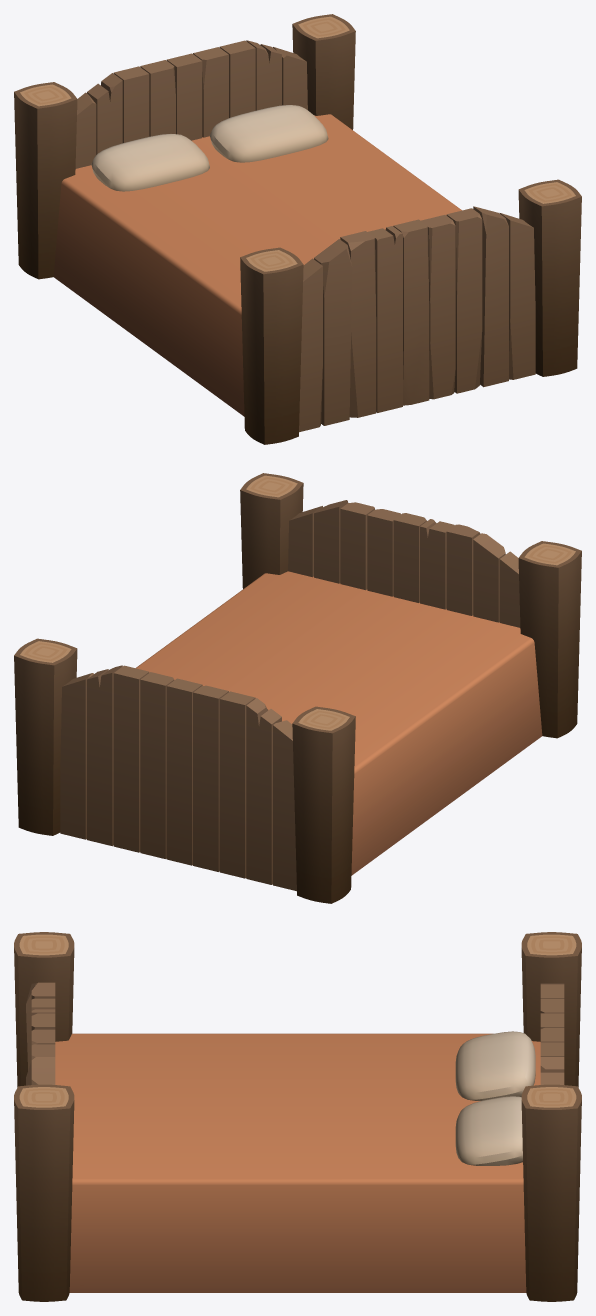
Rendered from Bed_03.glb.
3 views of the same model, one above another, from view 1: azimuth 30°, elevation 25°; view 2: azimuth 150°, elevation 25°; view 3: azimuth 270°, elevation 25° (orthographic). The views are drawn at different scales.
Visible parts, largest first — view 1: Bed_03_LOD0; view 2: Bed_03_LOD0; view 3: Bed_03_LOD0.
Part boxes in pixels (x1,y1,x2,y2): Bed_03_LOD0: (14,14,581,444); Bed_03_LOD0: (14,473,581,903); Bed_03_LOD0: (14,932,581,1301).
Size of what is drawn, in the model's own units: 1.76 by 0.9065 by 2.38.
Materials: 1 (1 with a texture image).
